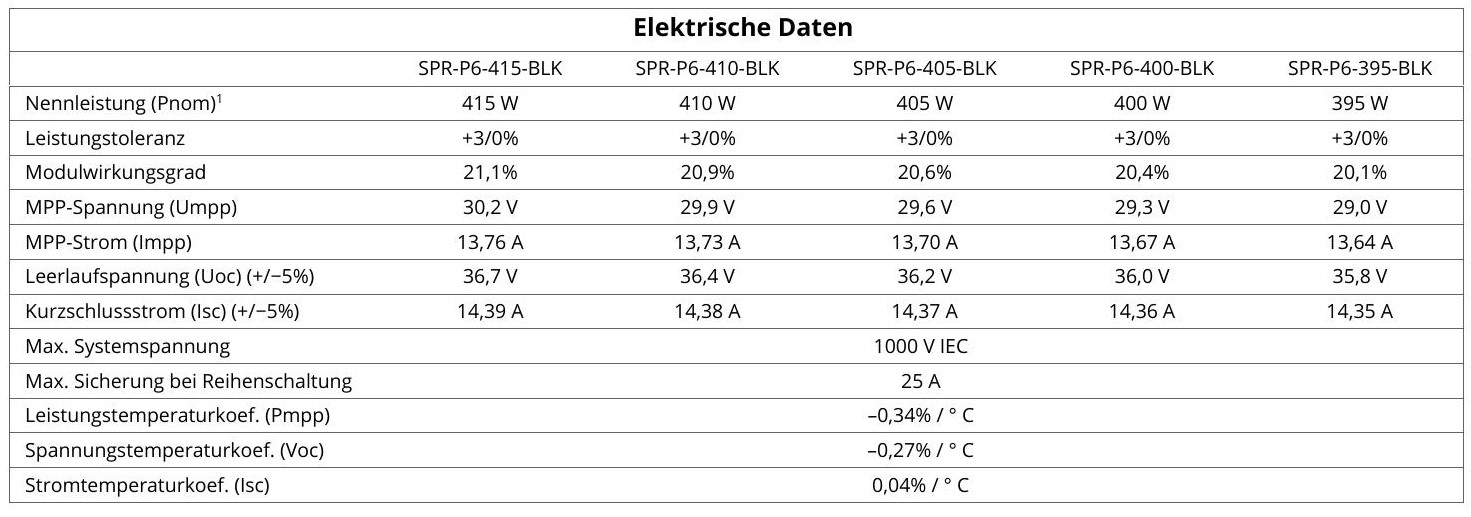table: (1, 38, 1471, 517)
table column: (19, 46, 390, 511), (815, 47, 1024, 512), (1043, 48, 1241, 511), (403, 46, 599, 509), (1258, 48, 1450, 510), (613, 45, 796, 511)
table row: (5, 470, 1471, 507), (6, 364, 1467, 397), (5, 261, 1464, 293), (5, 297, 1467, 327), (6, 435, 1471, 464), (8, 228, 1466, 257), (11, 54, 1459, 83), (10, 91, 1464, 119), (12, 125, 1465, 153), (7, 332, 1465, 359), (10, 195, 1464, 222), (6, 404, 1470, 430), (12, 160, 1465, 185)
table spanning cell: (398, 471, 1461, 503), (396, 367, 1457, 398), (398, 331, 1457, 360), (397, 436, 1456, 464), (396, 403, 1463, 428)
